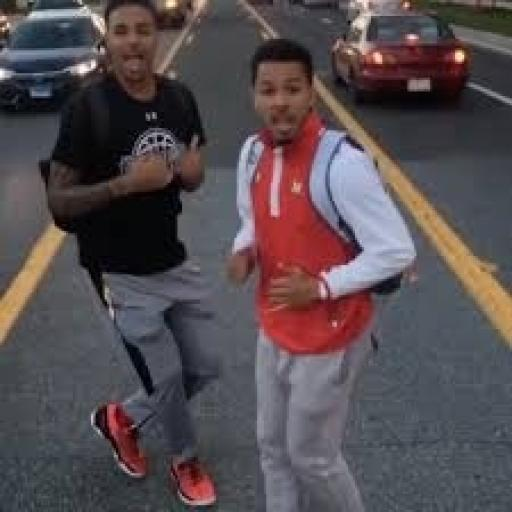dancing: (223, 36, 421, 510), (41, 0, 225, 510)
